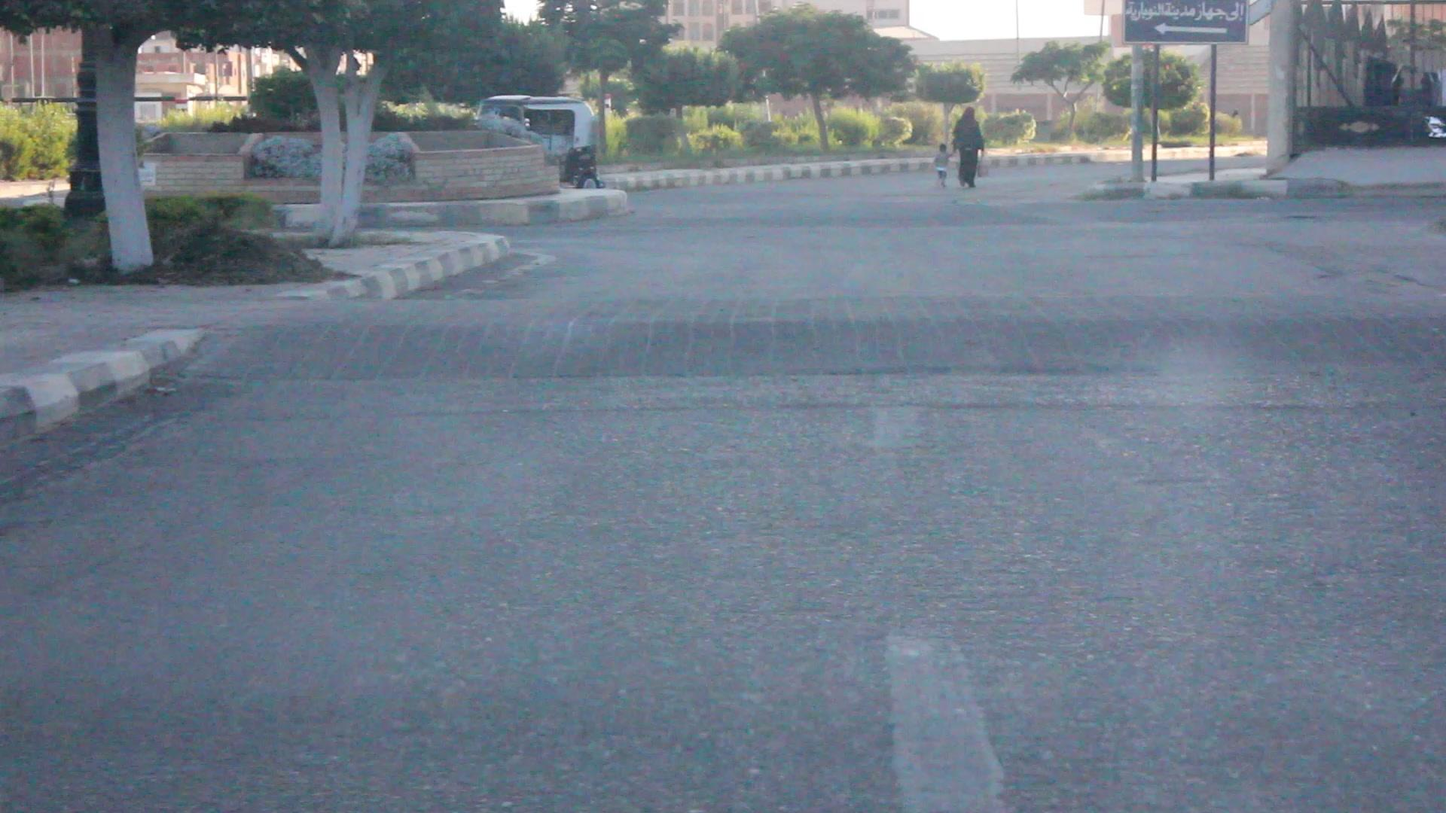Bump: (185, 286, 1445, 397)
